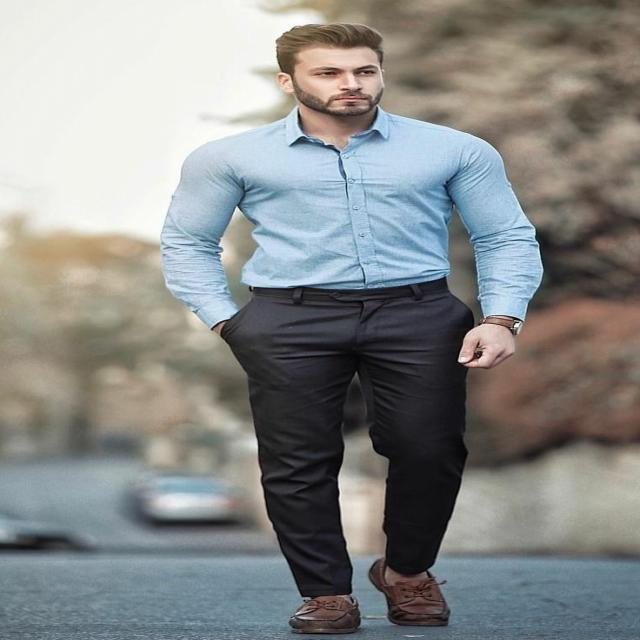male-dress: (172, 124, 549, 615), (205, 291, 483, 588), (164, 140, 561, 332)
